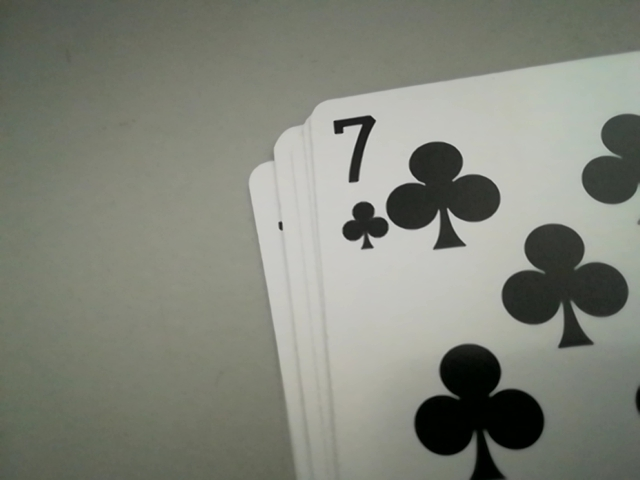mh 7: (327, 111, 387, 259)
